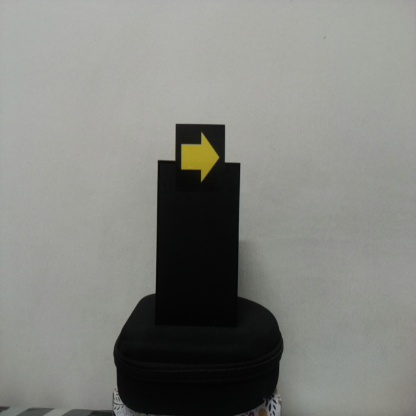id_3: (176, 124, 225, 193)
